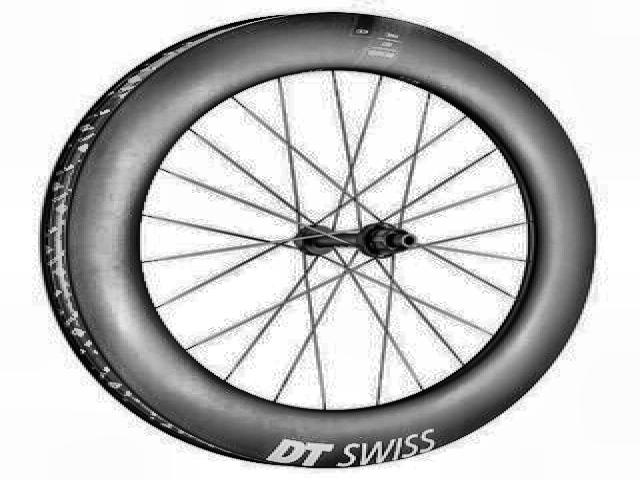wheel: (23, 5, 603, 472)
